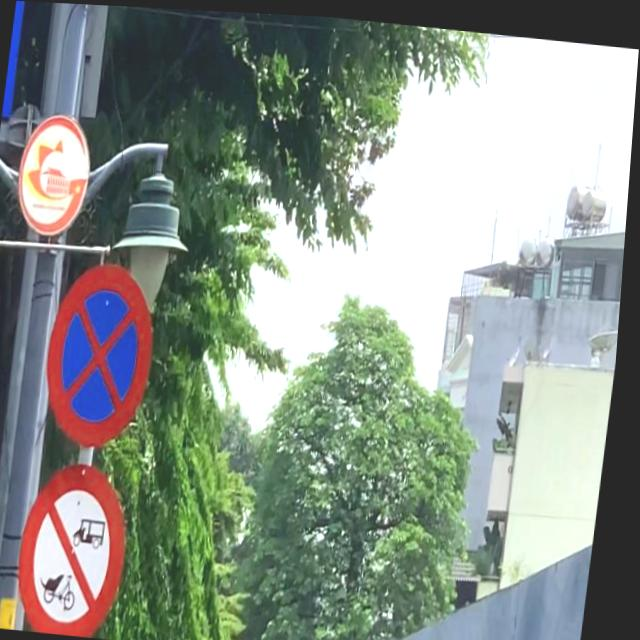Cam dung xe va do xe: (40, 251, 171, 455)
